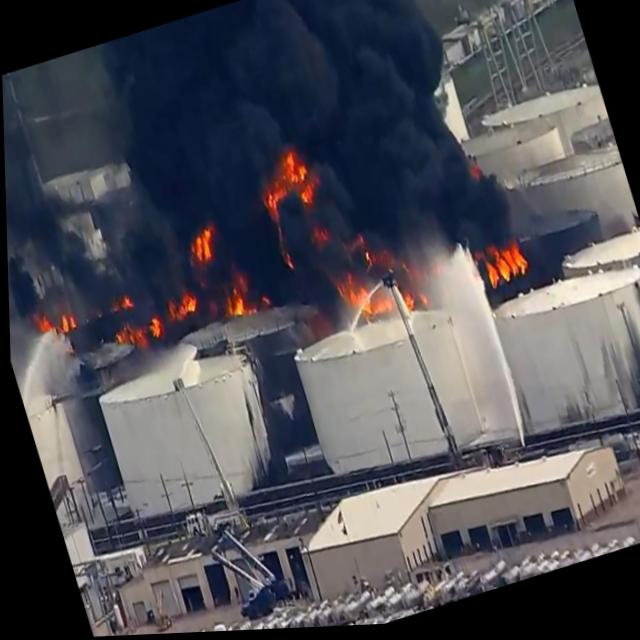fire: (247, 142, 326, 229), (472, 239, 532, 299), (331, 271, 379, 330), (177, 219, 223, 273), (159, 287, 200, 327), (215, 282, 252, 325), (395, 282, 430, 317), (110, 322, 146, 354), (353, 234, 375, 276), (142, 313, 165, 346), (372, 292, 396, 321), (53, 308, 76, 336), (31, 308, 54, 335), (111, 291, 134, 315), (259, 293, 270, 310)
